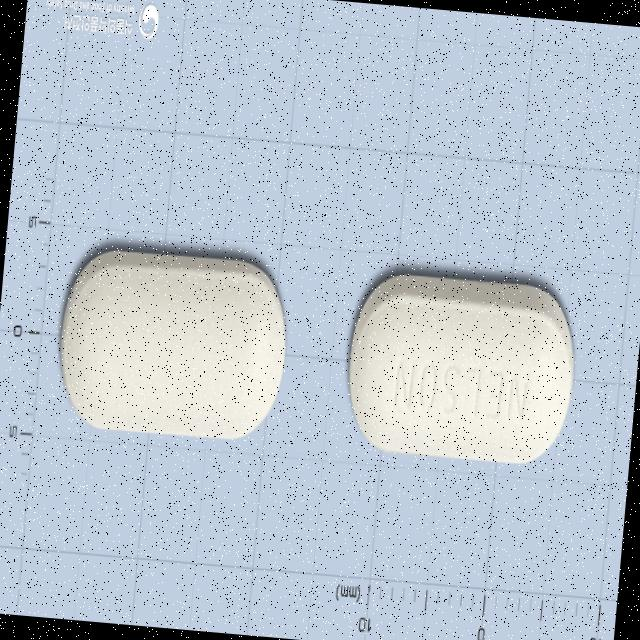Ciproctan: (333, 260, 583, 477)
